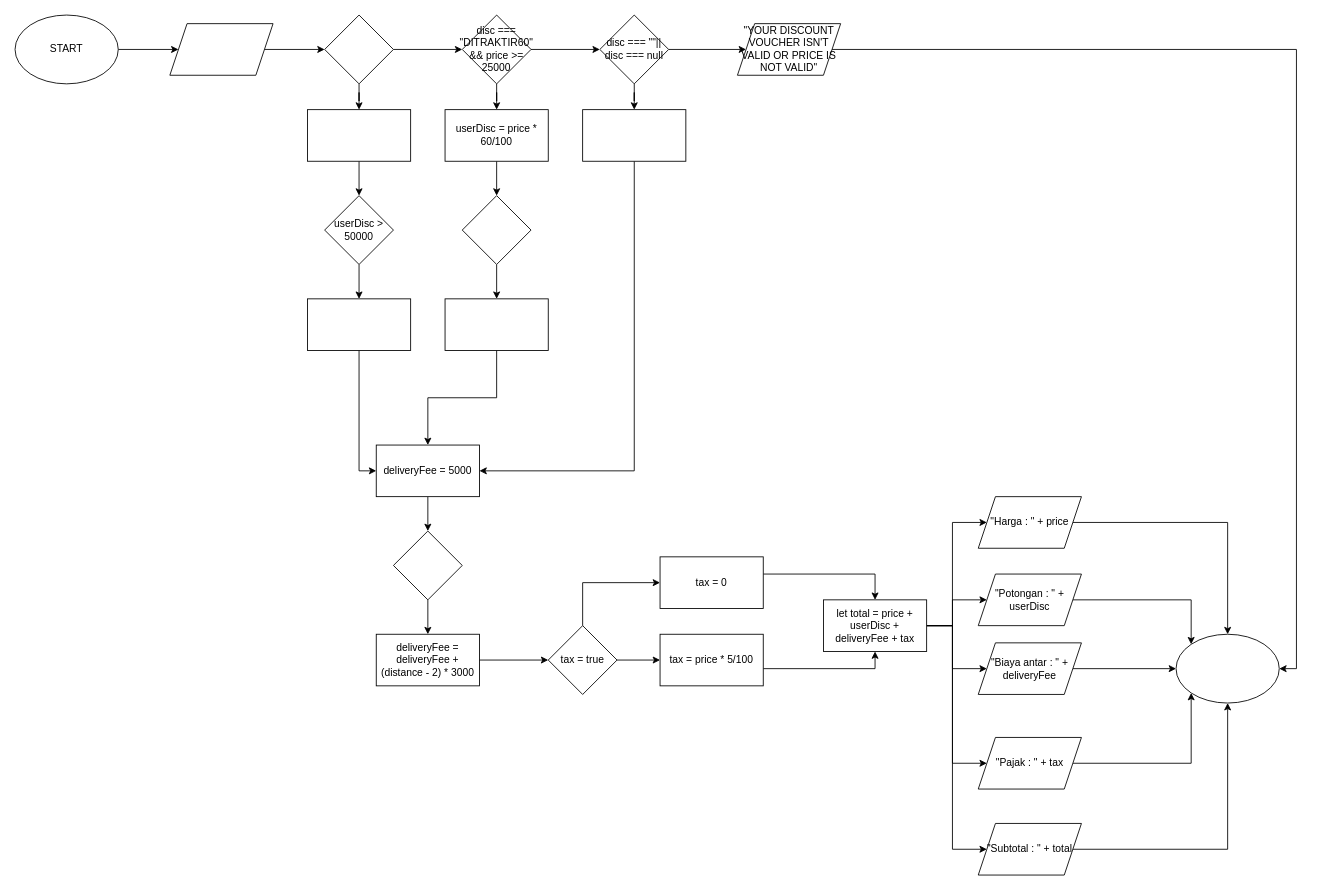
Some shapes in this 1318 by 890 pixel diagram are drawn without their labels. Here are the shapes that lost their labels. From the top down, the centre of each, then its label:
the point at 358,49: disc === "FAZZFOOD50" && price >= 50000
the point at 359,135: userDisc = price * 50/100
the point at 634,135: userDisc = 0
the point at 496,229: userDisc > 30000
the point at 359,324: userDisc = 50000
the point at 496,324: userDisc = 30000
the point at 427,565: distance > 2
the point at 1227,668: END
